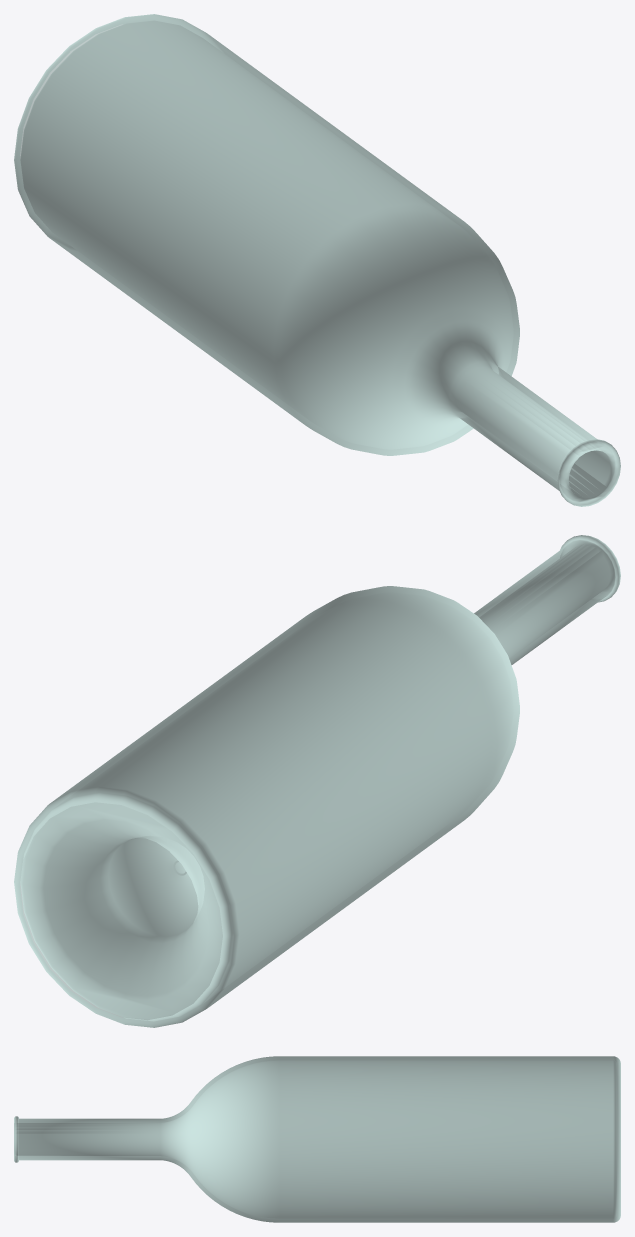
The model's file is model_scale.obj.
The picture shows the model from 3 angles, top to bottom: view 1: azimuth 30°, elevation 25°; view 2: azimuth 150°, elevation 25°; view 3: azimuth 270°, elevation 25°; orthographic projection. The views are drawn at different scales.
Visible parts, largest first — view 1: mesh1_mesh1-geometry; view 2: mesh1_mesh1-geometry; view 3: mesh1_mesh1-geometry.
Boxes of the visible parts, x1,y1,x2,y2 form: mesh1_mesh1-geometry: (14, 14, 620, 506); mesh1_mesh1-geometry: (14, 535, 620, 1027); mesh1_mesh1-geometry: (14, 1056, 620, 1222).
Bounding box in the file's own units: 0.0575 × 0.0575 × 0.2087.
